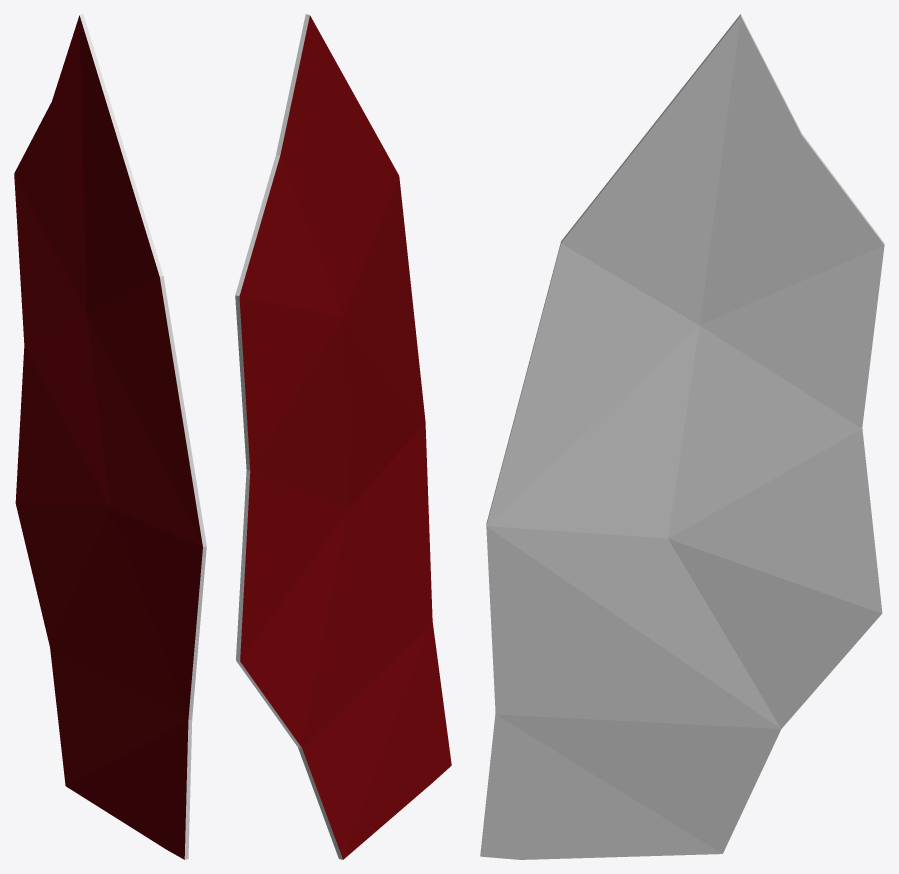
The model's file is wing_left.fbx.
3 renders of one model, left to right at view 1: azimuth 30°, elevation 25°; view 2: azimuth 150°, elevation 25°; view 3: azimuth 270°, elevation 25°, orthographic. The views are drawn at different scales.
Parts seen in each view (by area): view 1: Membrane.L; view 2: Membrane.L; view 3: Membrane.L.
Boxes of the visible parts, x1,y1,x2,y2 form: Membrane.L: (14, 14, 206, 859); Membrane.L: (235, 14, 451, 859); Membrane.L: (480, 14, 884, 859).
Bounding box in the file's own units: 154 × 3148 × 1357.
